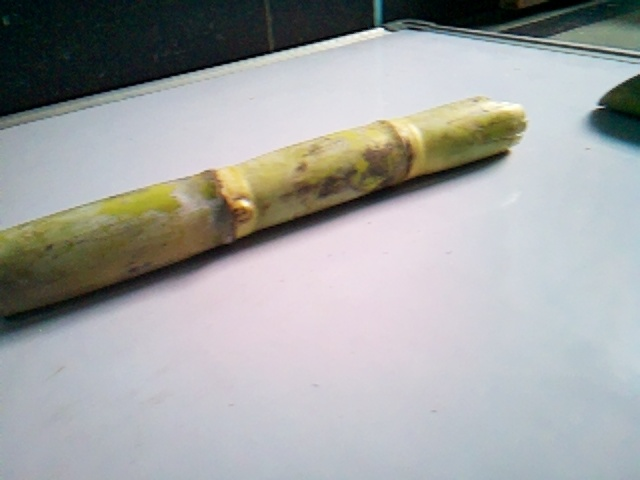Good Sugarcane: (0, 95, 532, 321)
Node: (179, 159, 260, 250), (361, 107, 426, 188)
